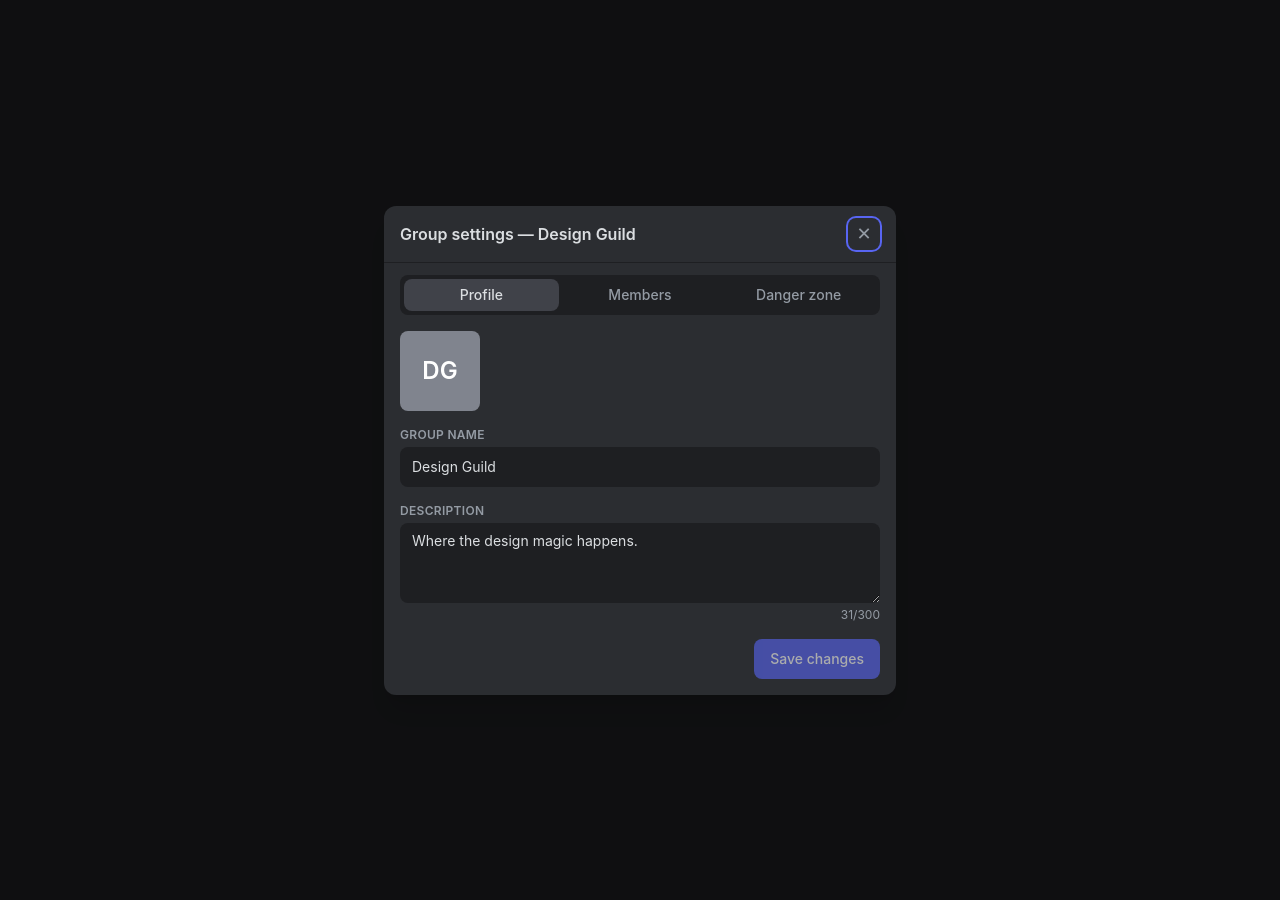
Test: GroupSettingsModal › shows Leave confirm dialog when Leave is clicked
Click the tab "Danger zone" at (799, 294), box top-left (721, 278), bottom-right (876, 310)
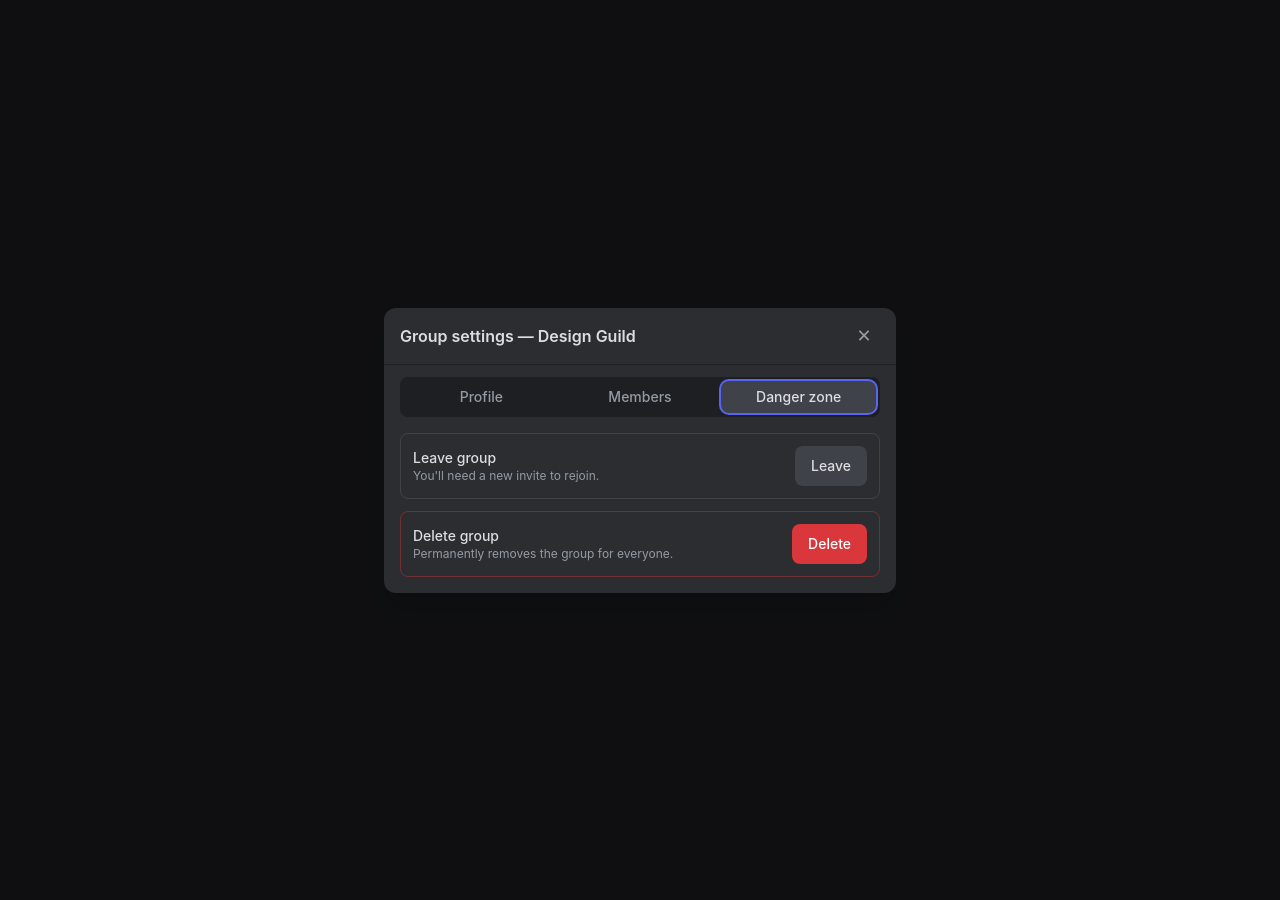
Click the button "Leave" at (831, 466), box top-left (795, 446), bottom-right (867, 486)
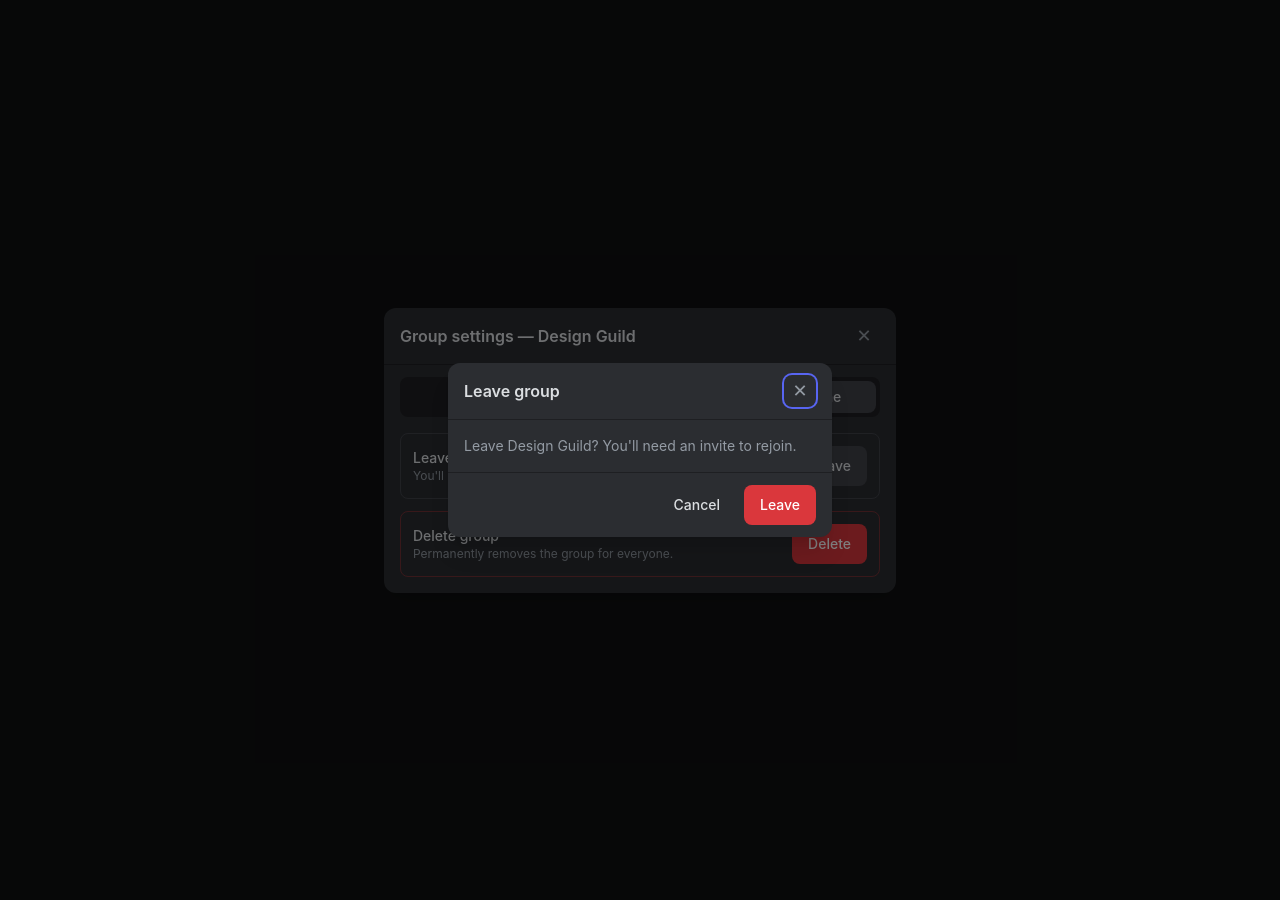
Expected: the dialog "Leave group" is shown, top-left (448, 363), bottom-right (832, 537)
